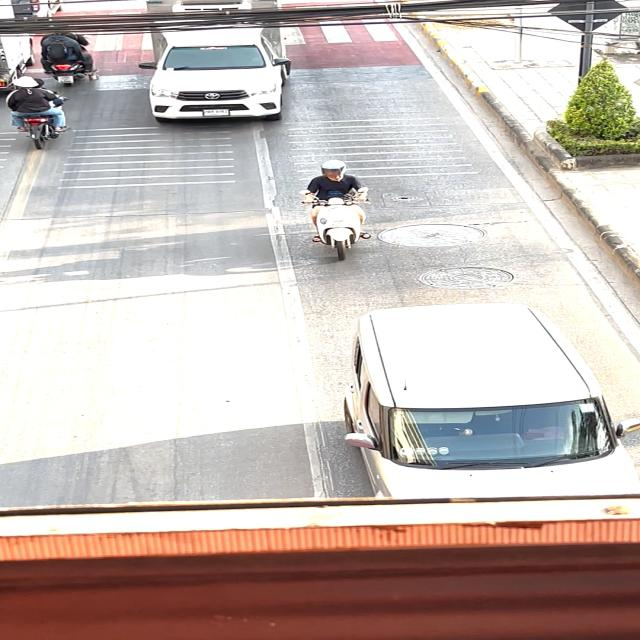car: (326, 295, 640, 499), (137, 17, 295, 131)
